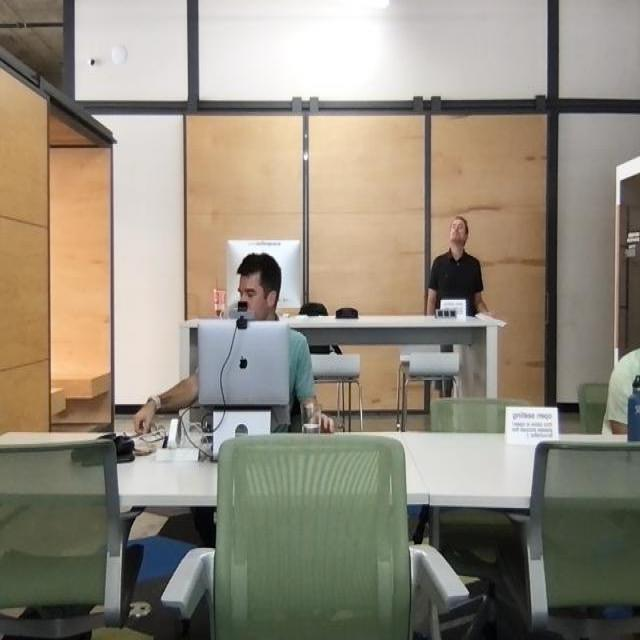face: (238, 268, 274, 319), (449, 213, 470, 251)
